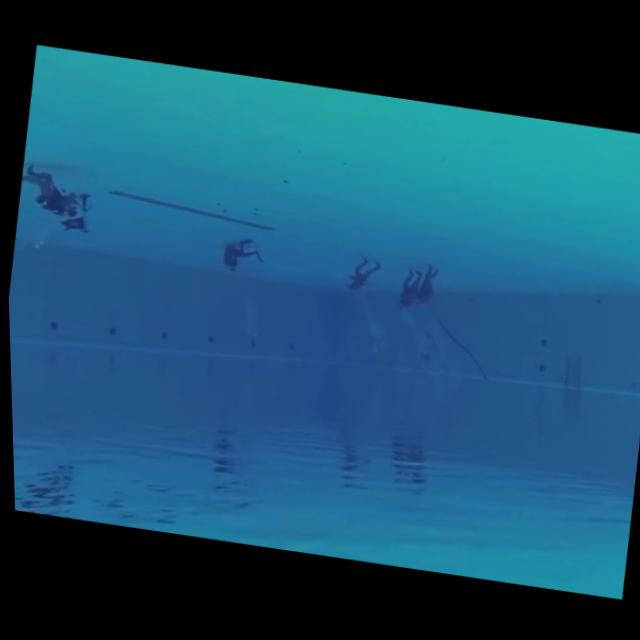human: (13, 160, 99, 244), (213, 231, 267, 284), (338, 250, 384, 303), (412, 255, 448, 309), (391, 261, 426, 316)
